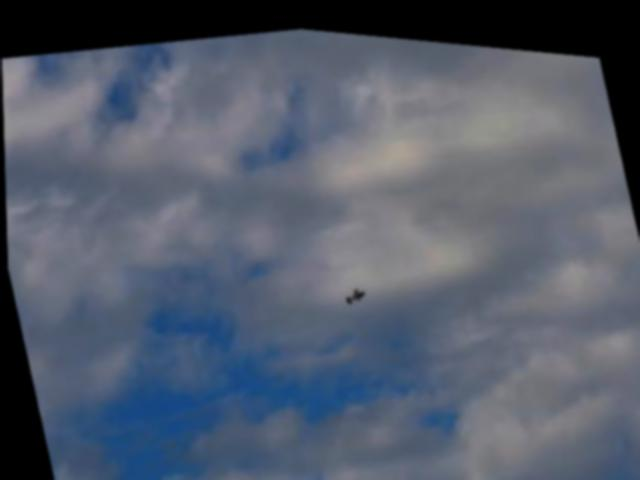uav: (338, 275, 367, 302)
